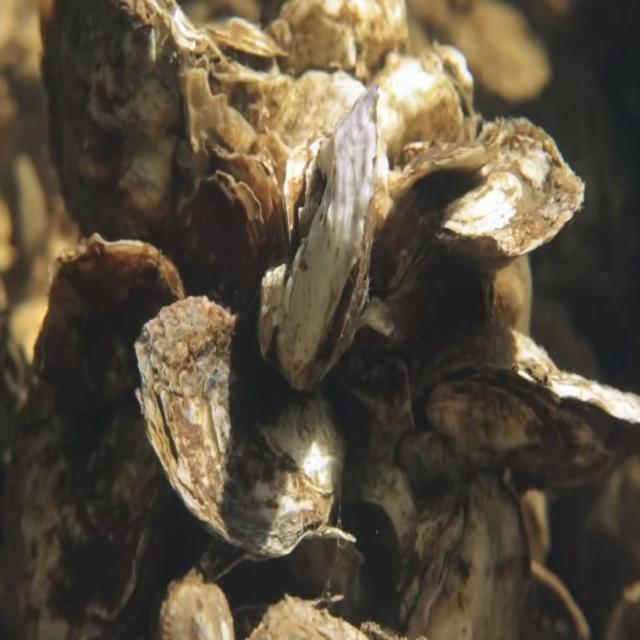Oyster-Closed: (21, 230, 188, 640), (409, 326, 640, 498), (256, 80, 380, 394), (378, 118, 586, 302), (390, 469, 532, 640)
Oyster-Indeterminate: (132, 293, 356, 560), (42, 0, 222, 262), (172, 169, 266, 323)
Oyster-Open: (207, 526, 354, 614)
